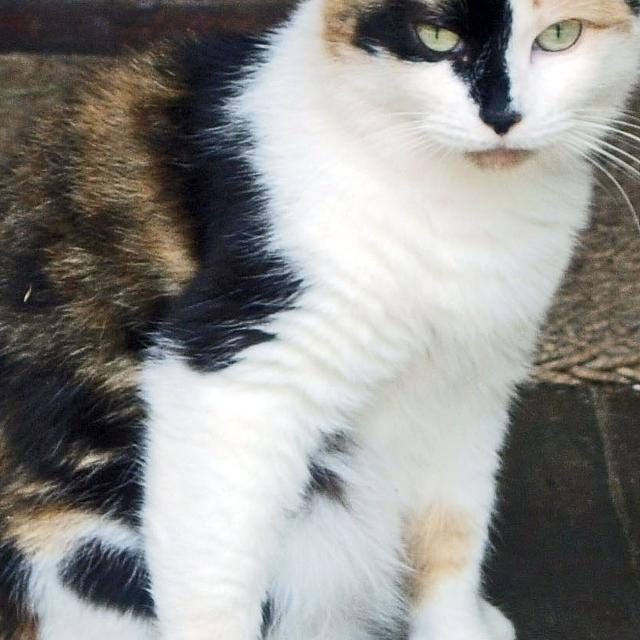animals: (347, 0, 640, 130)
